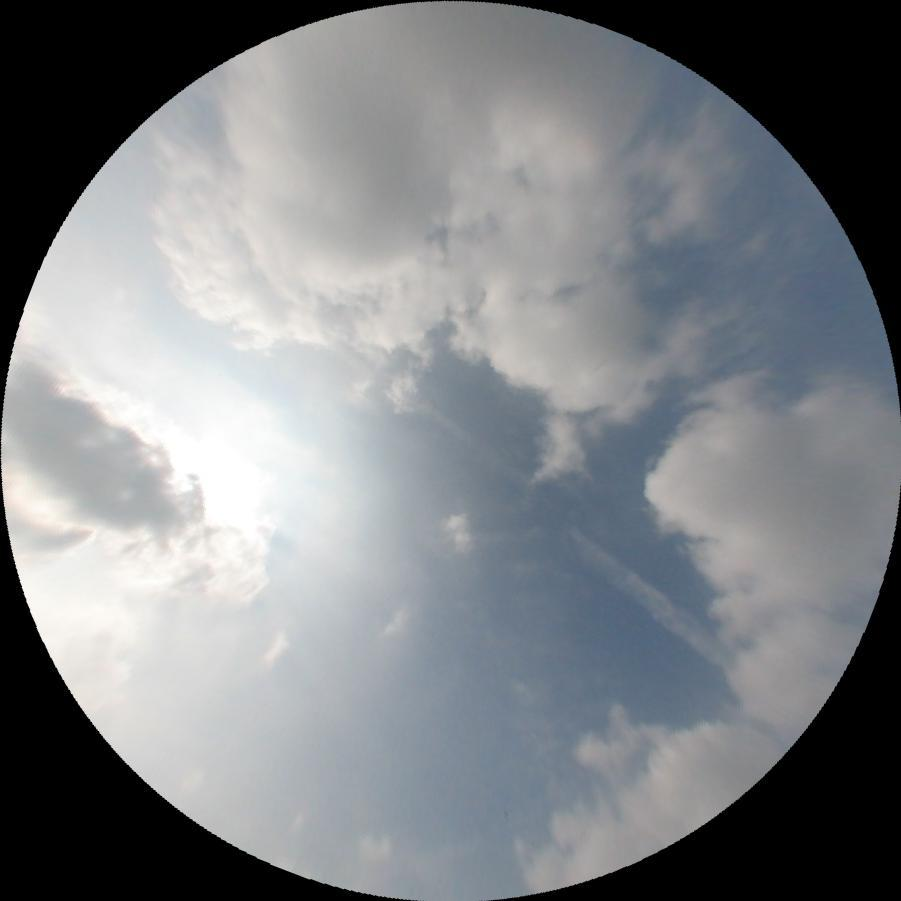contrail veryold: (560, 527, 739, 672)
sun: (143, 400, 294, 555)
